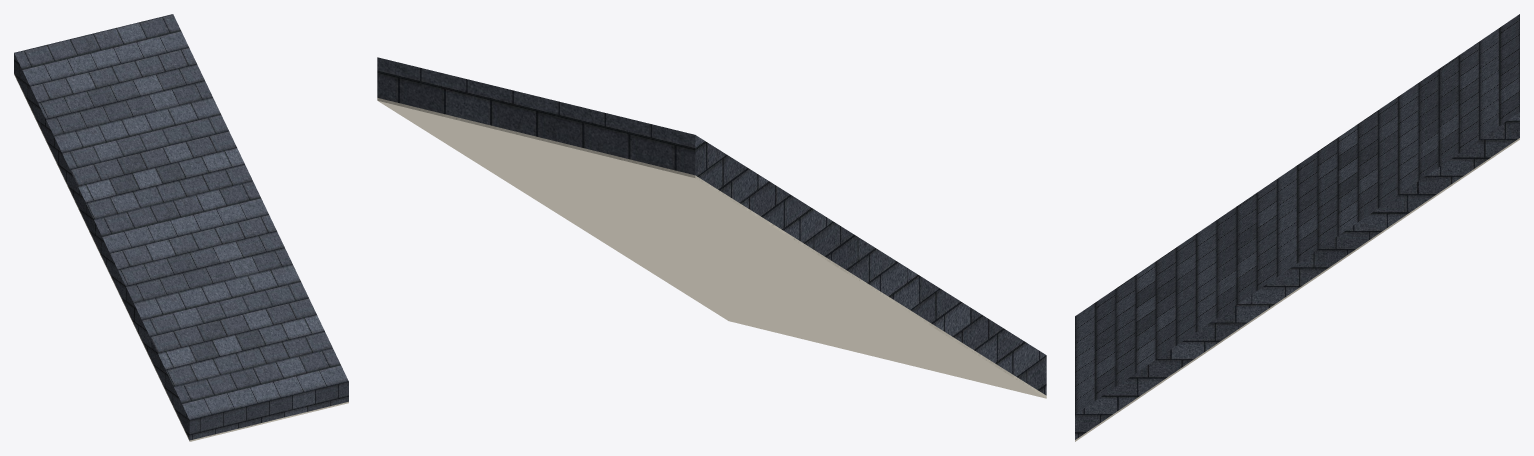
Rendered from wing_slope_end.glb.
3 renders of one model, left to right at view 1: azimuth 30°, elevation 25°; view 2: azimuth 150°, elevation 25°; view 3: azimuth 270°, elevation 25°, orthographic. The views are drawn at different scales.
Visible parts, largest first — view 1: wing_slope_end_shingle, wing_slope_end_plaster; view 2: wing_slope_end_plaster, wing_slope_end_shingle; view 3: wing_slope_end_shingle, wing_slope_end_plaster.
Boxes of the visible parts, bbox=[...] form: wing_slope_end_shingle: bbox=[14, 14, 348, 440]; wing_slope_end_plaster: bbox=[14, 73, 348, 441]; wing_slope_end_plaster: bbox=[377, 98, 1046, 398]; wing_slope_end_shingle: bbox=[377, 57, 1046, 395]; wing_slope_end_shingle: bbox=[1075, 14, 1519, 439]; wing_slope_end_plaster: bbox=[1075, 138, 1519, 441].
Bounding box in the file's own units: 2.3 × 3.6 × 4.4.
Materials: 2 (2 with a texture image).
